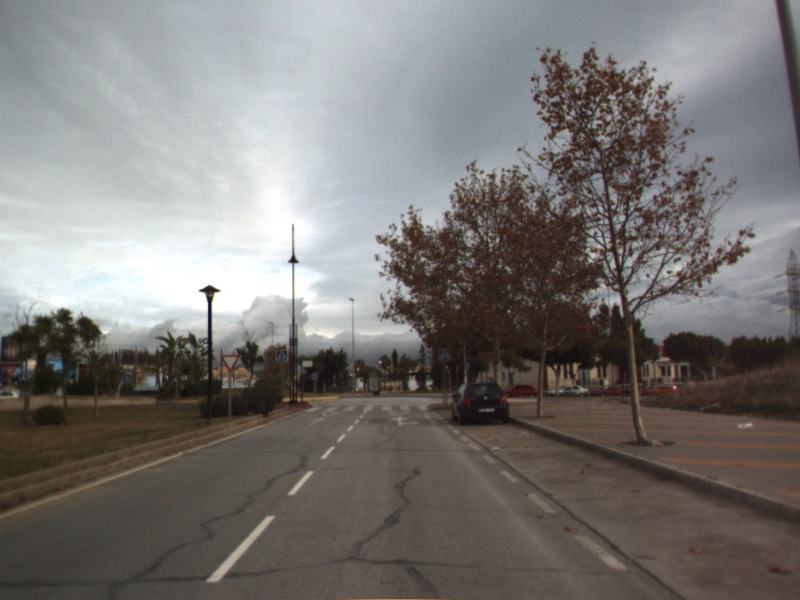STRAIGHT: (307, 416, 329, 428)
STRAIGHT_RIGHT: (390, 414, 421, 428)
